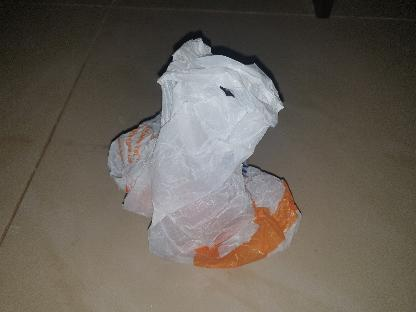Plastic Bag: (107, 42, 304, 266)
